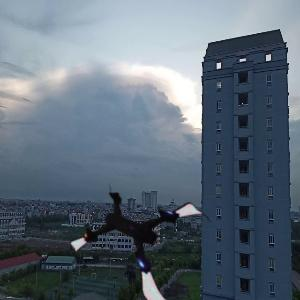drone: (85, 175, 207, 297)
